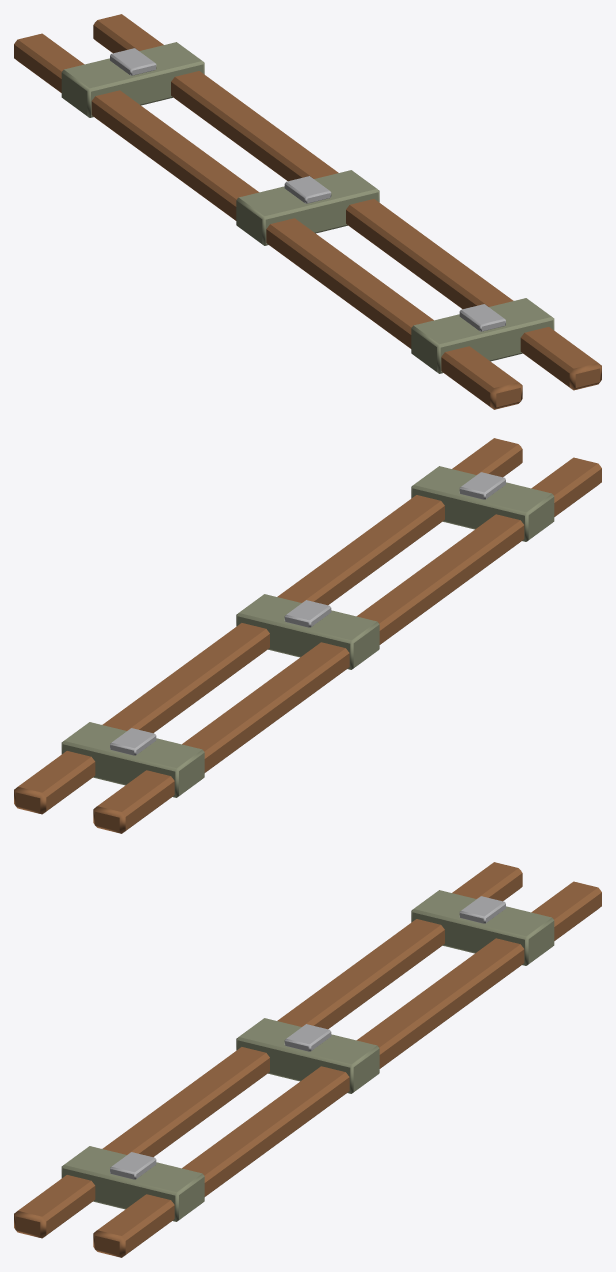
The model's file is splint.glb.
3 renders of one model, top to bottom at view 1: azimuth 30°, elevation 25°; view 2: azimuth 150°, elevation 25°; view 3: azimuth 330°, elevation 25°, orthographic.
Visible parts, largest first — view 1: body; view 2: body; view 3: body.
Boxes of the visible parts, bbox=[...] form: body: bbox=[14, 14, 601, 409]; body: bbox=[14, 438, 601, 833]; body: bbox=[14, 862, 601, 1257].
Bounding box in the file's own units: 0.062 × 0.0185 × 0.44.
